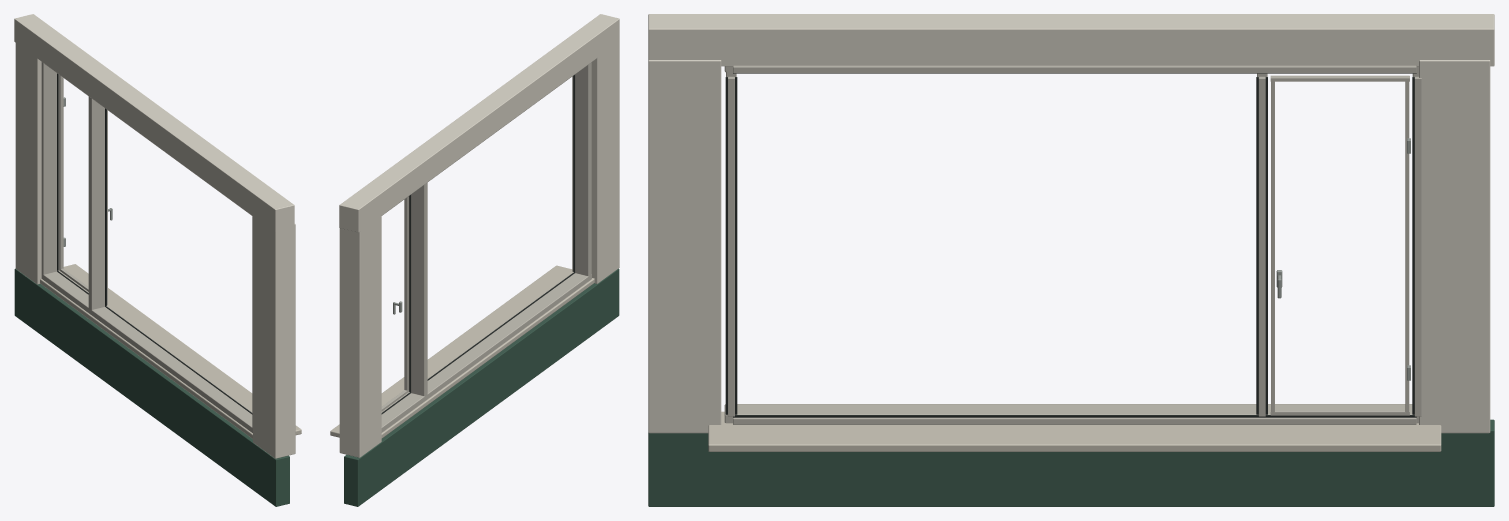
File: window.glb
The picture shows the model from 3 angles, left to right: view 1: azimuth 30°, elevation 25°; view 2: azimuth 150°, elevation 25°; view 3: azimuth 270°, elevation 25°; orthographic projection. The views are drawn at different scales.
Parts seen in each view (by area): view 1: Authored_window_static; view 2: Authored_window_static; view 3: Authored_window_static.
Boxes of the visible parts, left/top/right/bottom form: Authored_window_static: left=14, top=14, right=301, bottom=506; Authored_window_static: left=330, top=14, right=619, bottom=506; Authored_window_static: left=648, top=14, right=1494, bottom=506.
Size of the model in its own units: 0.51 by 3.2 by 5.1.
